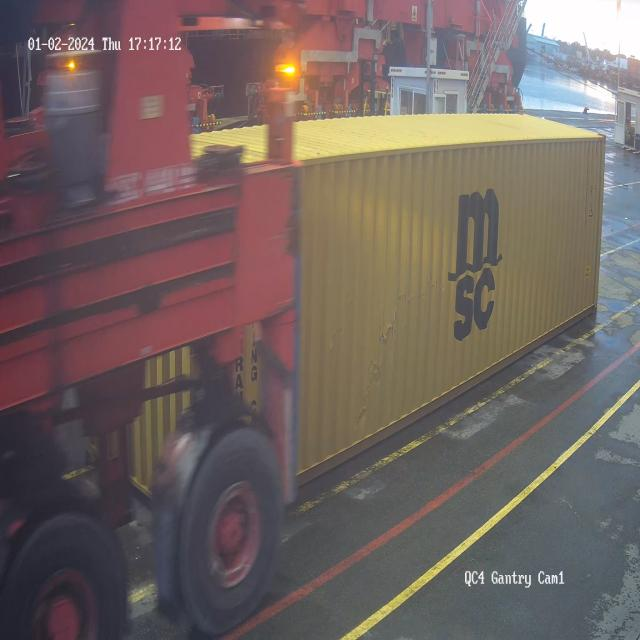dent: (317, 251, 440, 450)
